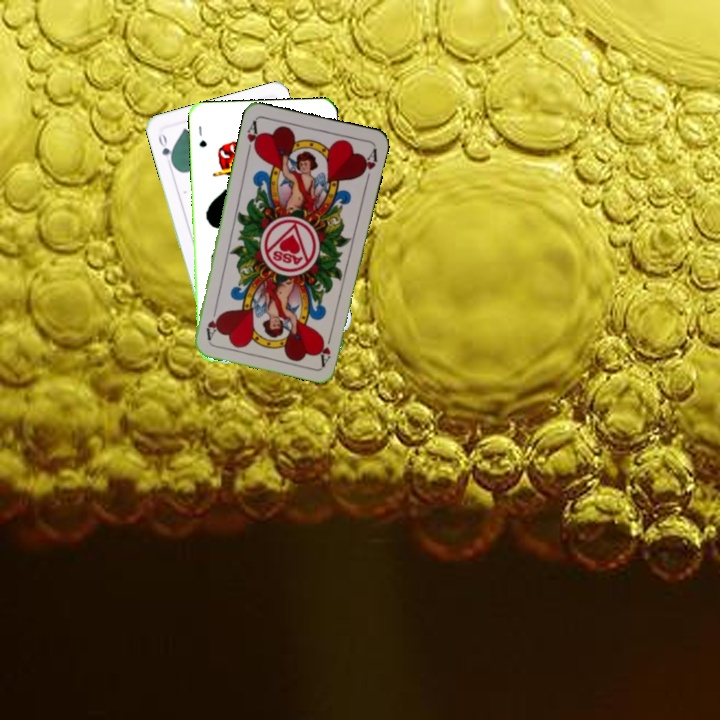GO: (154, 130, 176, 167)
GU: (195, 122, 209, 150)
HA: (243, 117, 262, 157), (316, 328, 335, 368)
